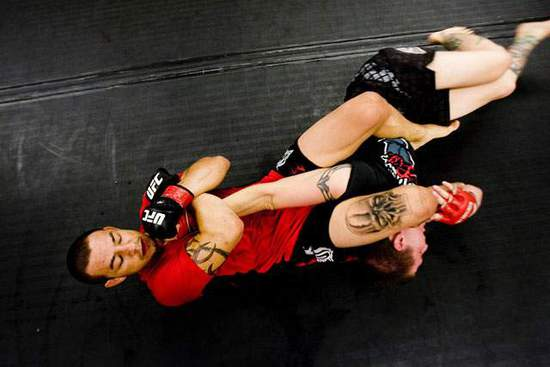fall: (57, 9, 485, 286)
